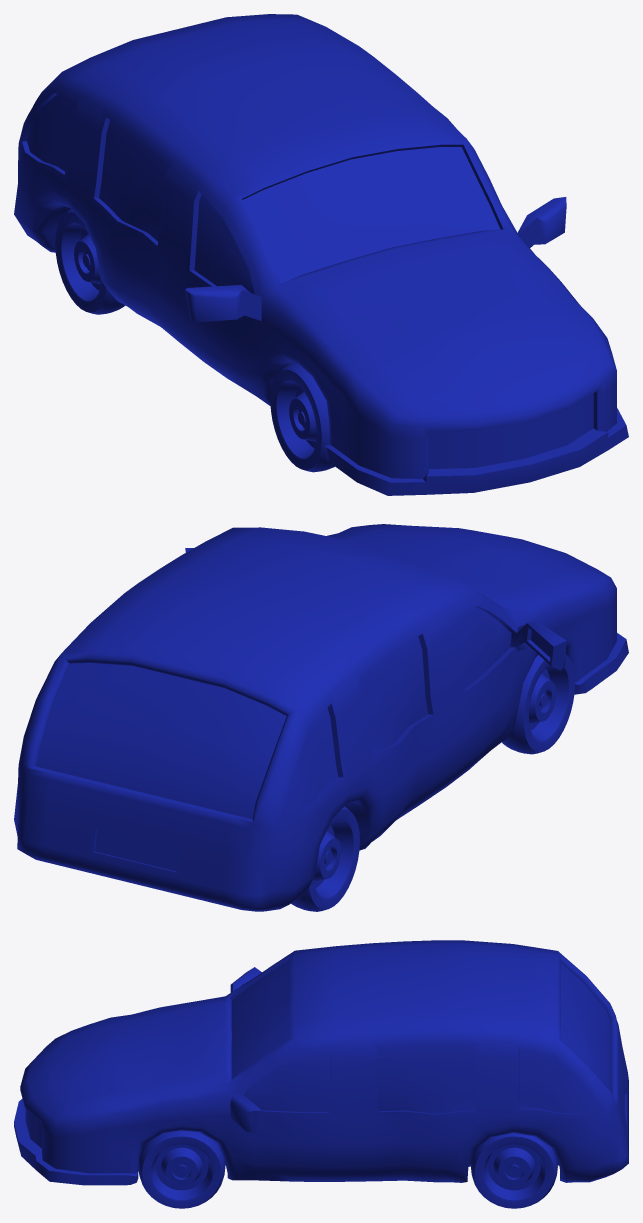
The model's file is Car.fbx.
3 renders of one model, top to bottom at view 1: azimuth 30°, elevation 25°; view 2: azimuth 150°, elevation 25°; view 3: azimuth 270°, elevation 25°, orthographic. The views are drawn at different scales.
Parts seen in each view (by area): view 1: Cube; view 2: Cube; view 3: Cube.
Part boxes in pixels (<box>): Cube: <box>14,14,628,495</box>; Cube: <box>14,524,628,911</box>; Cube: <box>14,940,628,1208</box>.
Size of the model in its own units: 359 by 224 by 649.
